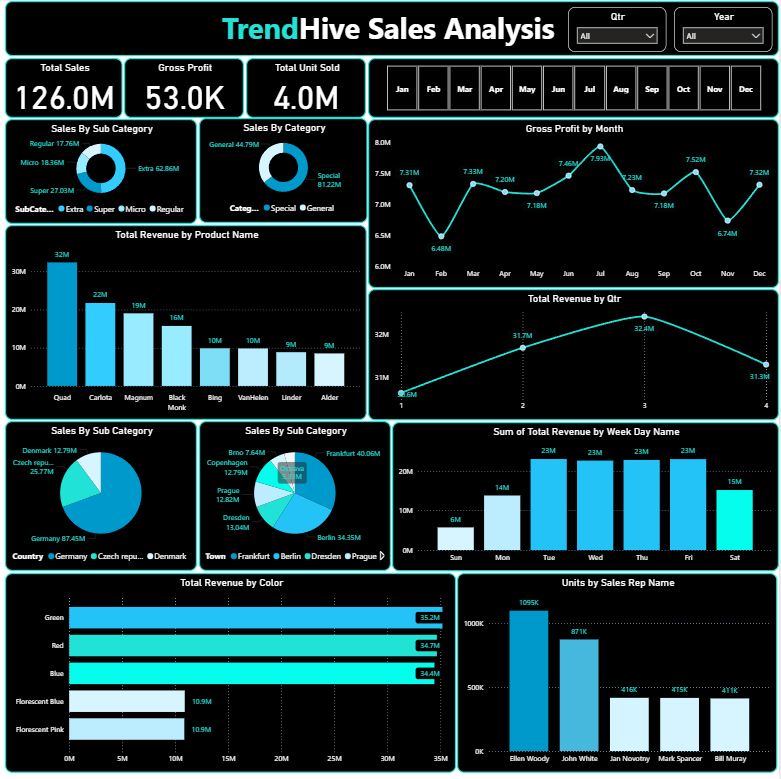

Layout of this report page (visuals, bound fields, positions):
{"tool":"powerbi","page":{"name":"Page 1","canvas":[1300,1300],"ordinal":0},"visuals":[{"type":"textbox","box":[9.7,0,1290.3,92.5],"z":0},{"type":"card","title":"Total Sales","fields":{"Values":["Sum(Sales.Total Revenue)"]},"box":[9.7,94.3,196.5,100.2],"z":1000},{"type":"card","title":"Gross Profit","fields":{"Values":["Sum(Sales.PercentOfStandardCost)"]},"box":[208.6,94.3,200.4,100.2],"z":2000},{"type":"card","title":"Total Unit Sold","fields":{"Values":["Sum(Sales.Units)"]},"box":[411.4,94.3,200.4,100.2],"z":3000},{"type":"slicer","title":"Qtr","fields":{"Values":["DateMaster.Qtr"]},"box":[948.6,9.8,164.4,74.9],"z":4000},{"type":"slicer","title":"Year","fields":{"Values":["DateMaster.Year"]},"box":[1124.7,9.8,164.4,74.9],"z":5000},{"type":"slicer","fields":{"Values":["DateMaster.Month Name"]},"box":[615.1,94.6,684.9,100],"z":6000},{"type":"donutChart","title":"Sales By Sub Category","fields":{"Category":["Sub categories.SubCategory Name"],"Y":["Sum(Sales.Total Revenue)"]},"box":[9.6,196.4,319.7,174.8],"z":7000},{"type":"donutChart","title":"Sales By Category","fields":{"Category":["Categories.Category"],"Y":["Sum(Sales.Total Revenue)"]},"box":[332.9,195.2,281.4,174.8],"z":8000},{"type":"columnChart","title":"Total Revenue by Product Name","fields":{"Category":["Product.ProductName"],"Y":["Sum(Sales.Total Revenue)"]},"box":[9.5,373.6,603.1,325.2],"z":9000},{"type":"lineChart","title":"Total Revenue by Qtr","fields":{"Y":["Sum(Sales.Total Revenue)"],"Category":["DateMaster.Qtr"]},"box":[615.4,479.8,684.6,219],"z":10000},{"type":"lineChart","title":"Gross Profit by Month","fields":{"Y":["Sum(Sales.Gross Profit)"],"Category":["DateMaster.Month Name"]},"box":[615.4,196.3,684.6,281.6],"z":11000},{"type":"pieChart","title":"Sales By Sub Category","fields":{"Category":["Geography.Country"],"Y":["Sum(Sales.Total Revenue)"]},"box":[9.5,700.7,319.5,250.3],"z":12000},{"type":"pieChart","title":"Sales By Sub Category","fields":{"Category":["Geography.Town"],"Y":["Sum(Sales.Total Revenue)"]},"box":[332.8,700.7,319.5,250.3],"z":13000},{"type":"columnChart","fields":{"Category":["DateMaster.Week Day Name"],"Y":["Sum(Sales.Total Revenue)"]},"box":[655.2,701.7,644.8,249.4],"z":14000},{"type":"clusteredColumnChart","title":" Units by Sales Rep Name","fields":{"Y":["Sum(Sales.Units)"],"Category":["Sales rep.Sales Rep Name"]},"box":[764,953.1,533.8,332.8],"z":15000},{"type":"clusteredBarChart","title":"Total Revenue by Color","fields":{"Category":["Product.Color"],"Y":["Sum(Sales.Total Revenue)"]},"box":[9.7,953.1,752.1,332.8],"z":16000}]}

Visuals, with their boxes in screenshot pixels (x1, y1, x2, y2), scaled from the page's 1300x1300 canvas onto the 781x779 screenshot:
textbox: 6/0/780/55
"Total Sales" card: 6/57/124/117
"Gross Profit" card: 125/57/246/117
"Total Unit Sold" card: 247/57/368/117
"Qtr" slicer: 570/6/669/51
"Year" slicer: 676/6/774/51
slicer - DateMaster.Month Name: 370/57/780/117
"Sales By Sub Category" donutChart: 6/118/198/222
"Sales By Category" donutChart: 200/117/369/222
"Total Revenue by Product Name" columnChart: 6/224/368/419
"Total Revenue by Qtr" lineChart: 370/288/780/419
"Gross Profit by Month" lineChart: 370/118/780/286
"Sales By Sub Category" pieChart: 6/420/198/570
"Sales By Sub Category" pieChart: 200/420/392/570
columnChart - DateMaster.Week Day Name x Sum(Sales.Total Revenue): 394/420/780/570
" Units by Sales Rep Name" clusteredColumnChart: 459/571/780/771
"Total Revenue by Color" clusteredBarChart: 6/571/458/771
